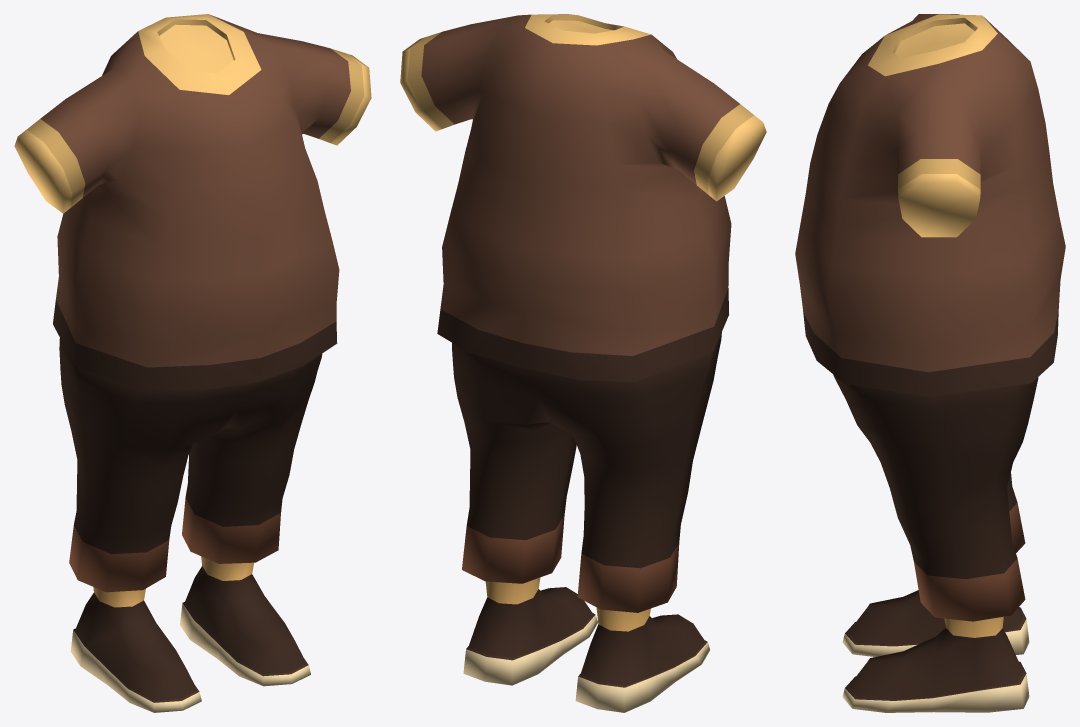
The model's file is granny(1).fbx.
3 views of the same model, side by side, from view 1: azimuth 30°, elevation 25°; view 2: azimuth 150°, elevation 25°; view 3: azimuth 270°, elevation 25° (orthographic). The views are drawn at different scales.
Visible parts, largest first — view 1: Granny_body; view 2: Granny_body; view 3: Granny_body.
Boxes of the visible parts, left/top/right/bottom form: Granny_body: left=14, top=14, right=371, bottom=712; Granny_body: left=400, top=14, right=766, bottom=712; Granny_body: left=795, top=14, right=1065, bottom=712.
Size of the model in its own units: 0.6785 by 1.22 by 0.4641.
